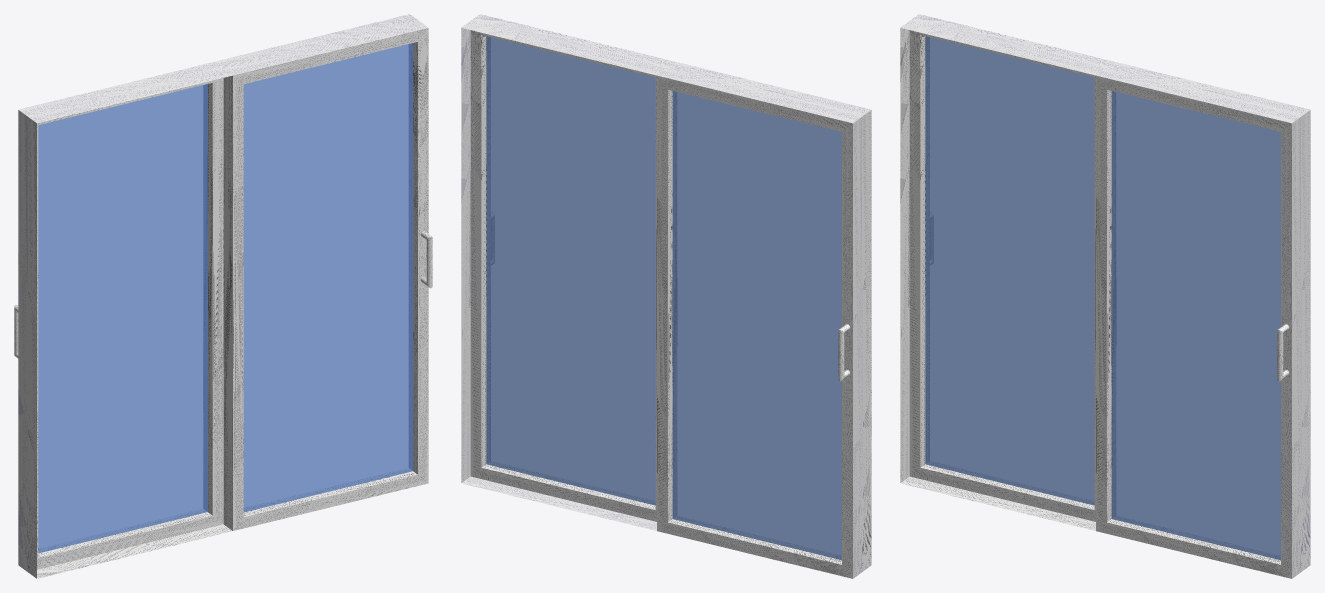
File: slidingDoor.fbx
The picture shows the model from 3 angles, left to right: view 1: azimuth 30°, elevation 25°; view 2: azimuth 150°, elevation 25°; view 3: azimuth 330°, elevation 25°; orthographic projection.
Visible parts, largest first — view 1: Model; view 2: Model; view 3: Model.
Part boxes in pixels (<box>): Model: <box>14,14,432,578</box>; Model: <box>461,14,871,578</box>; Model: <box>900,14,1310,578</box>.
Bounding box in the file's own units: 72 × 80 × 11.
